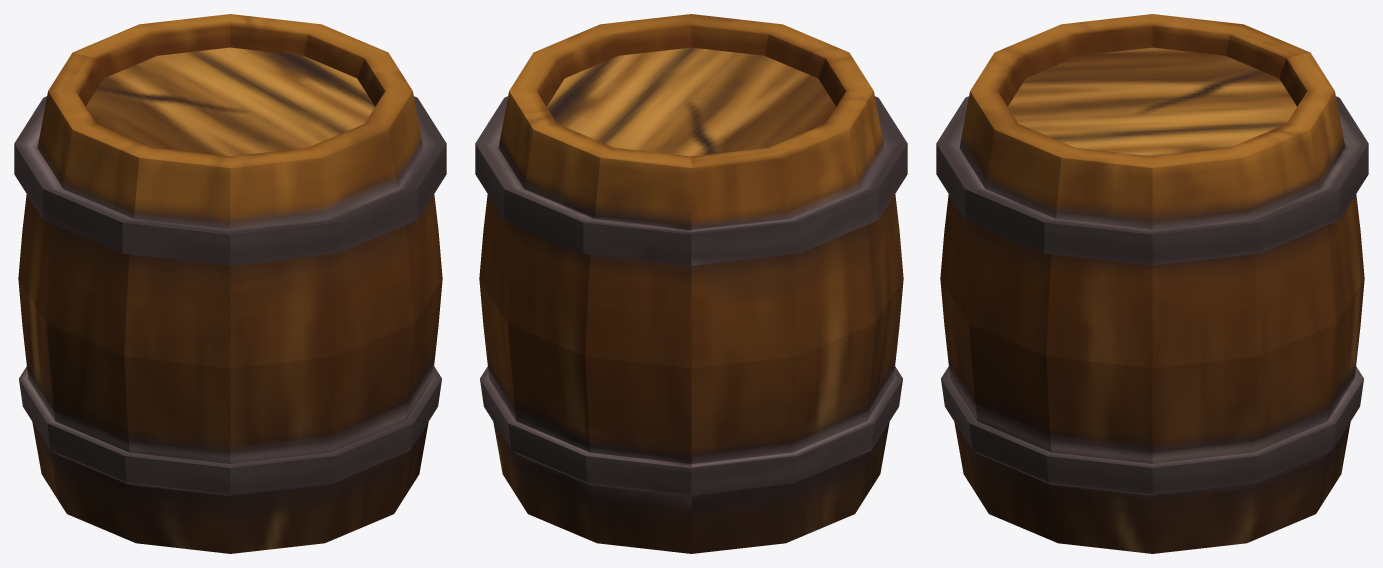
Rendered from barrel_2.fbx.
3 views of the same model, side by side, from view 1: azimuth 30°, elevation 25°; view 2: azimuth 150°, elevation 25°; view 3: azimuth 270°, elevation 25° (orthographic).
Parts seen in each view (by area): view 1: barrel_2; view 2: barrel_2; view 3: barrel_2.
Part boxes in pixels (left/top/right/bottom): barrel_2: left=14, top=14, right=446, bottom=553; barrel_2: left=475, top=14, right=907, bottom=553; barrel_2: left=936, top=14, right=1368, bottom=553.
Size of the model in its own units: 1.18 by 1.15 by 1.18.
